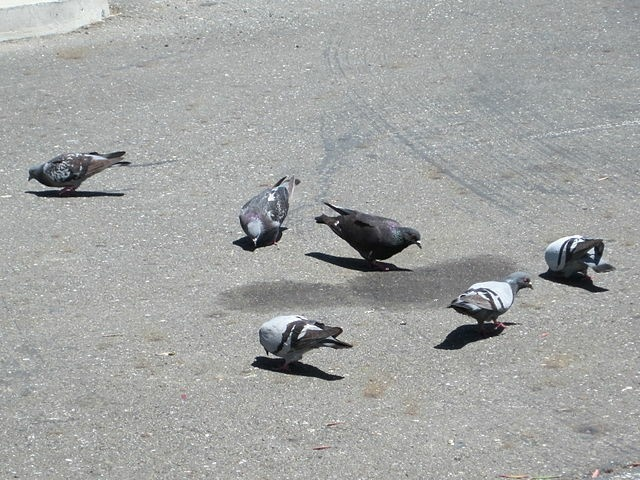Pigeon: (311, 201, 424, 271), (255, 311, 356, 375), (443, 269, 537, 333), (27, 147, 133, 197), (236, 172, 302, 250), (541, 234, 619, 289)
